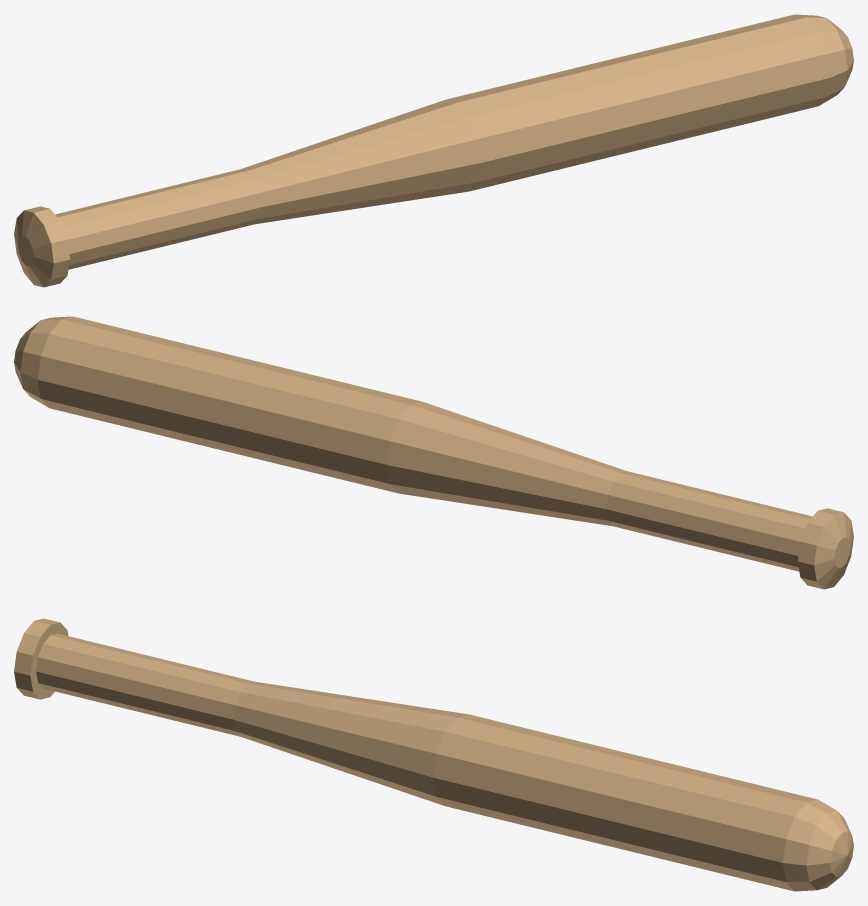
Rendered from Baseball_Bat.glb.
3 renders of one model, top to bottom at view 1: azimuth 30°, elevation 25°; view 2: azimuth 150°, elevation 25°; view 3: azimuth 330°, elevation 25°, orthographic.
Visible parts, largest first — view 1: Baseball_Bat; view 2: Baseball_Bat; view 3: Baseball_Bat.
Part boxes in pixels (x1,y1,x2,y2): Baseball_Bat: (14, 14, 853, 287); Baseball_Bat: (14, 316, 853, 589); Baseball_Bat: (14, 618, 853, 891).
Bounding box in the file's own units: 1 × 0.1 × 0.1.
